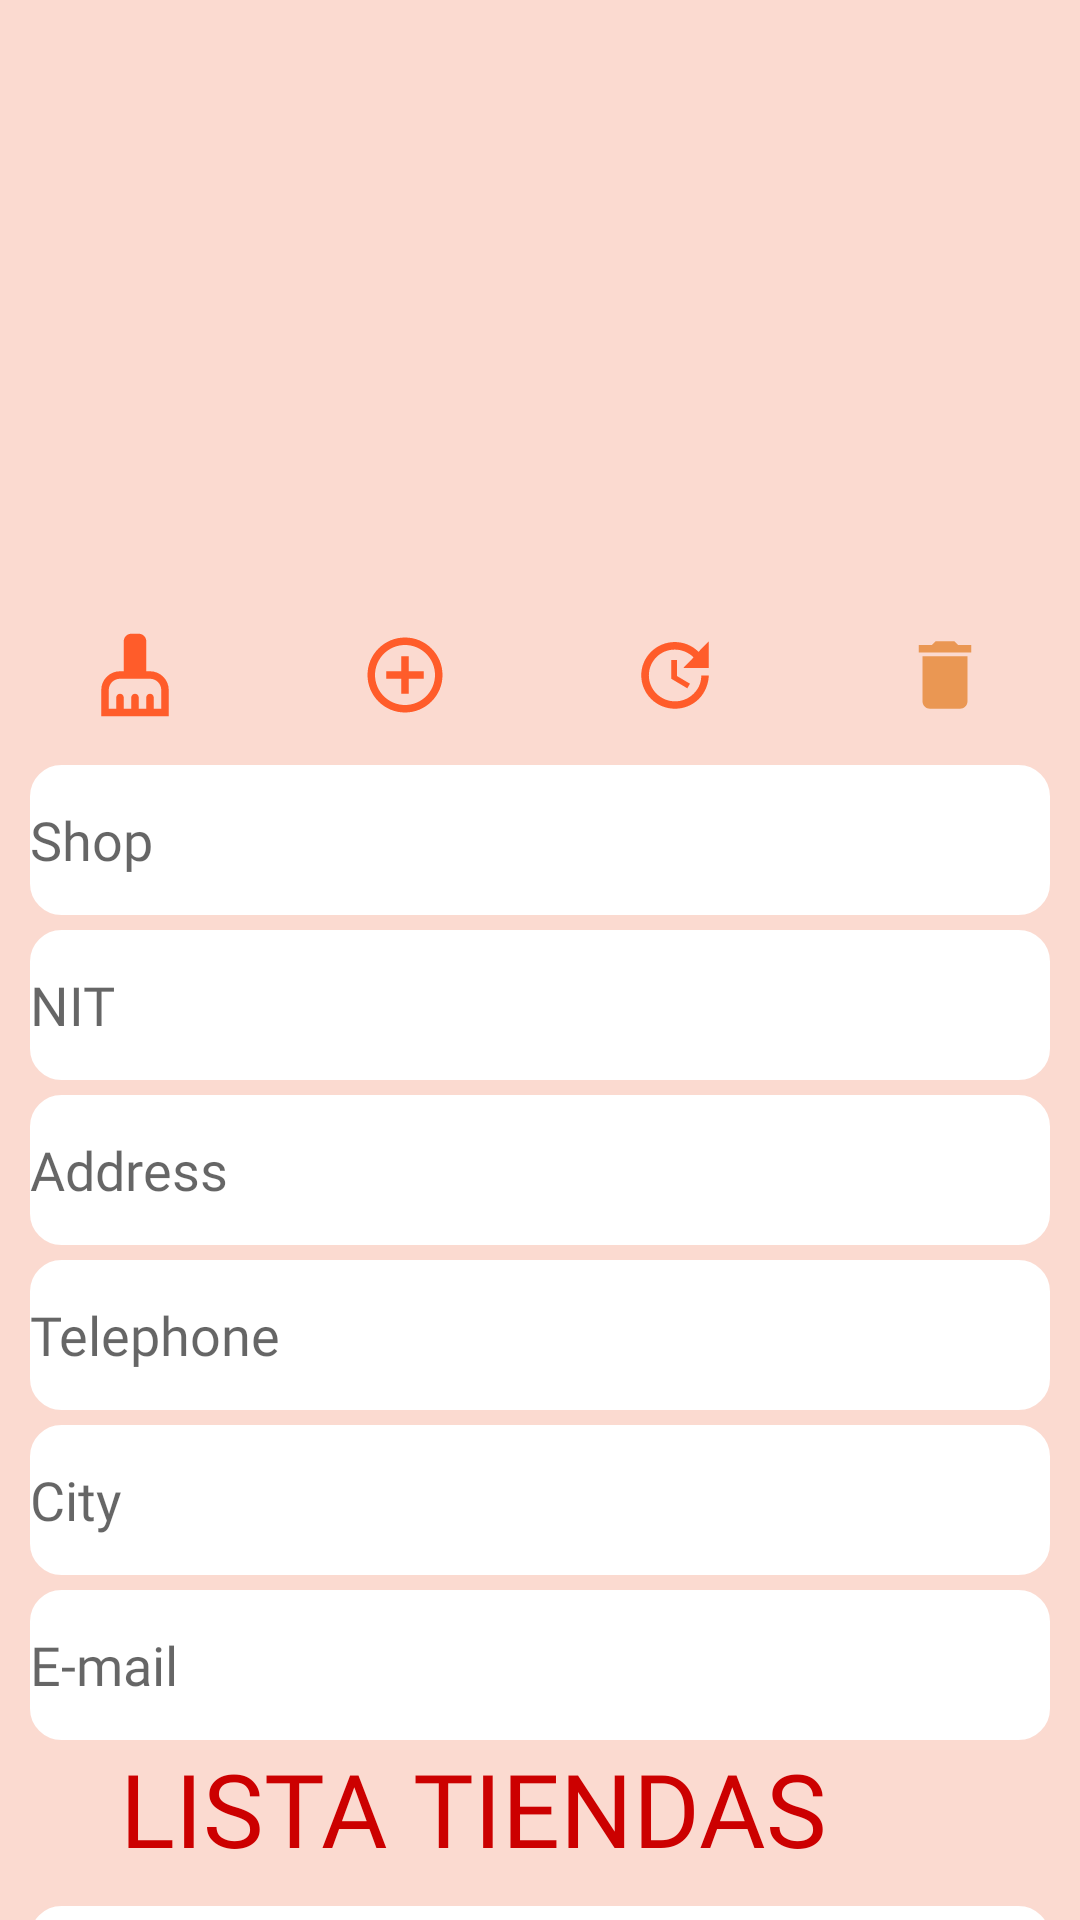

Where to tap for icons on this 1080 × 1920 app screen, as (x=x, y=y):
add: (x=405, y=675)
clear: (x=135, y=675)
delete: (x=945, y=675)
update: (x=675, y=675)
